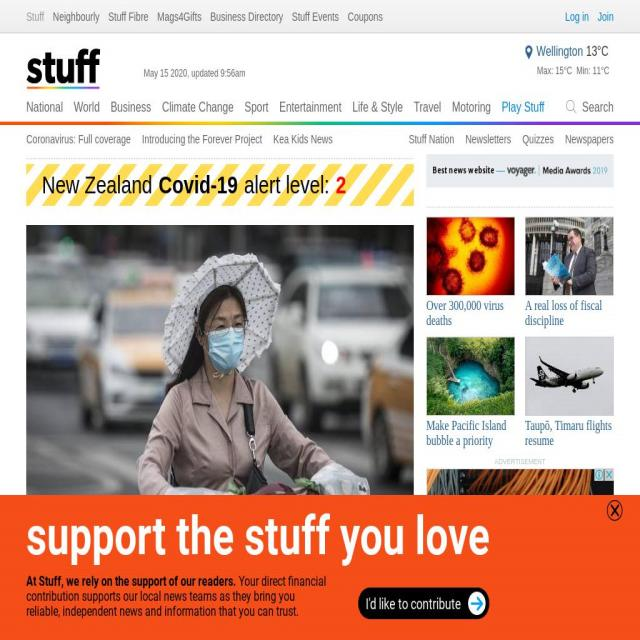login-option: (554, 7, 592, 30)
navigation-blocks: (427, 210, 622, 493)
navigation-links: (17, 97, 638, 148), (21, 8, 394, 35)
search: (558, 94, 632, 124)
sign-up-option: (598, 5, 624, 33)
